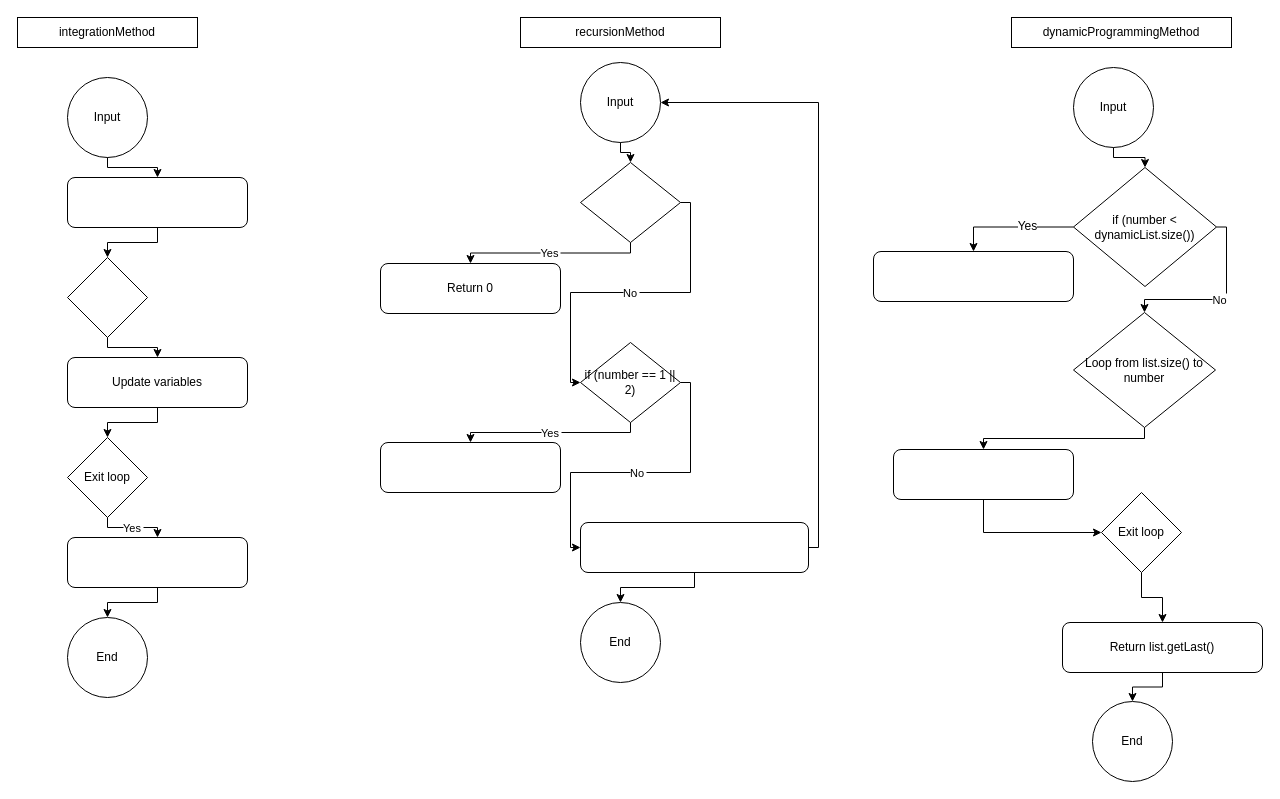
Image size: 1280x799. Some labels were removed from this diagram. Each missing label, with the centre of its shape:
Add values to list: point 983,474
Call recursionMethod(number - 2) + recursionMethod(number - 1): point 694,547
if (number == 0): point 630,202
Initialize variables: point 157,202
Loop from 1 to number: point 107,297
Return 1: point 470,467
Return dynamicList.get(number): point 973,276
Return sum: point 157,562
